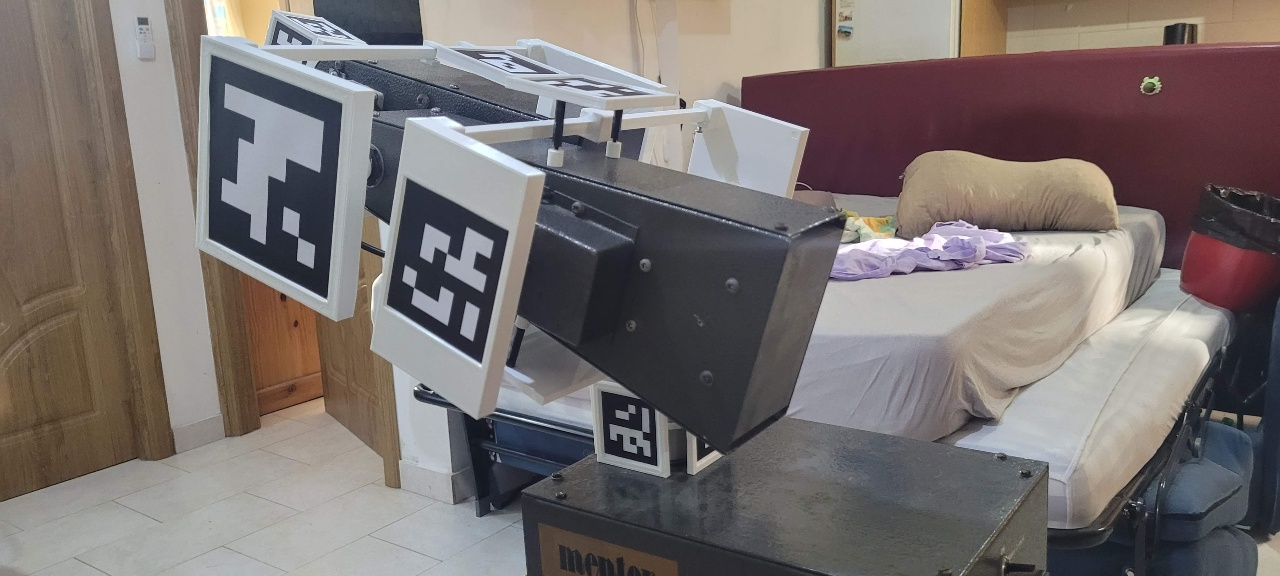Robot: (193, 9, 847, 479)
